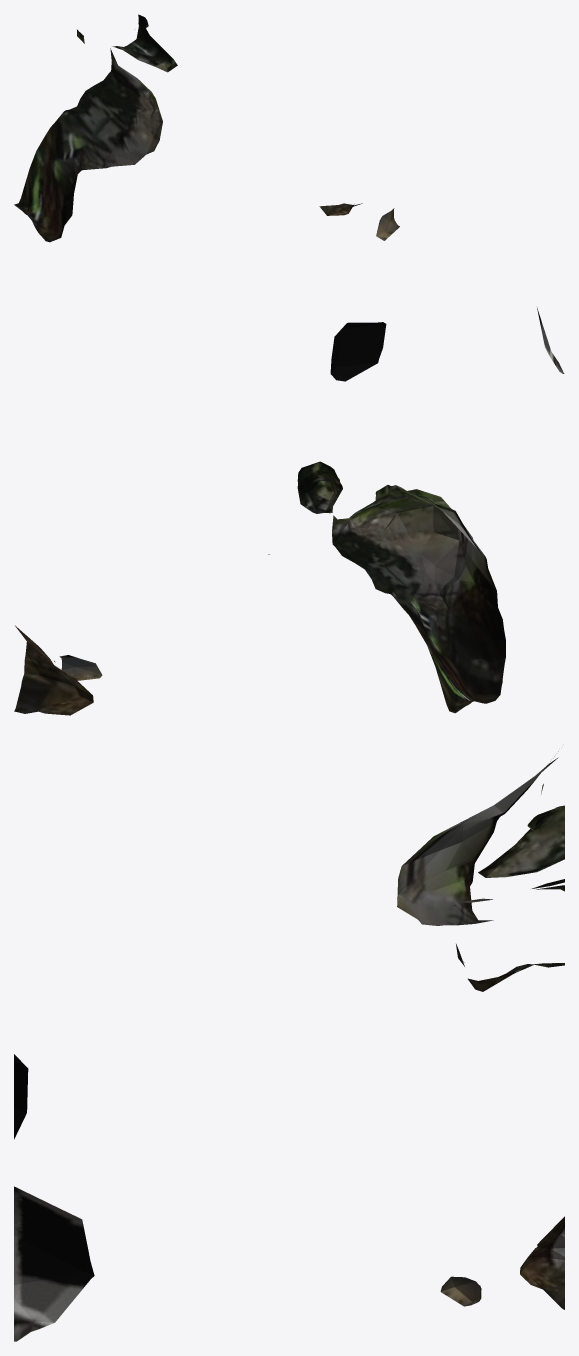
3 views of the same model, one above another, from view 1: azimuth 30°, elevation 25°; view 2: azimuth 150°, elevation 25°; view 3: azimuth 270°, elevation 25° (orthographic). The views are drawn at different scales.
Bounding box in the file's own units: 6.7 × 4.89 × 6.7.
Materials: 1 (1 with a texture image).
